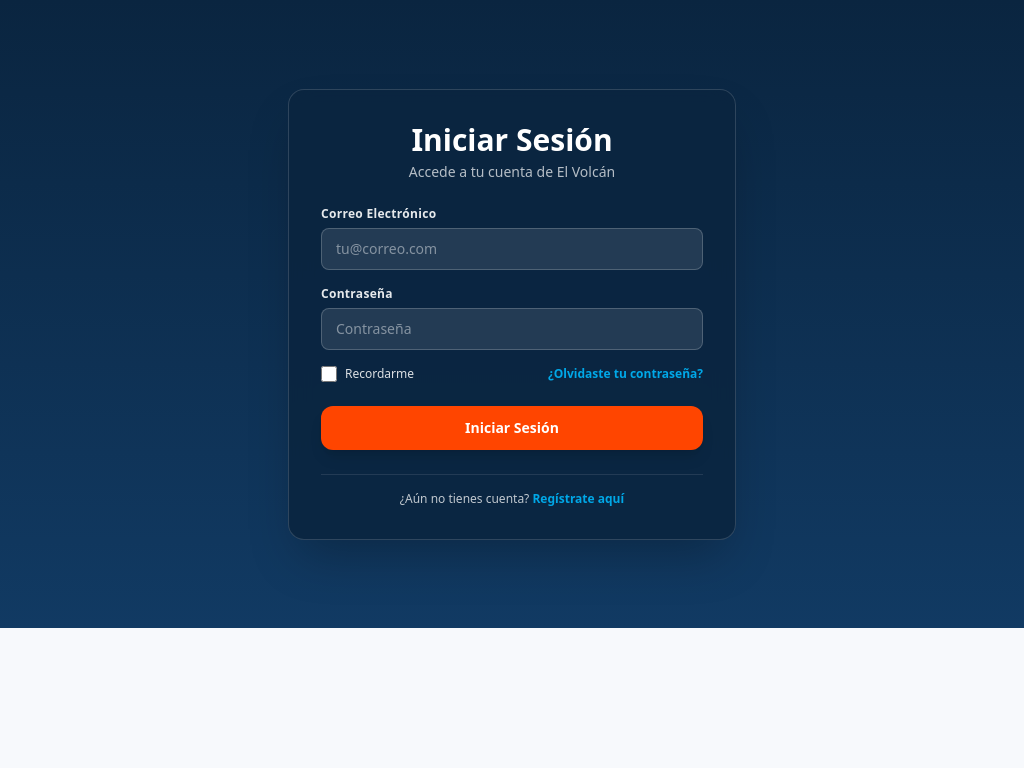
Test: Pruebas Unitarias - Comportamiento de Componentes y Manipulación del DOM › 15. IniciarSesion: Valida los campos y manipula el DOM mostrando alerta ante credenciales incorrectas del backend
Type "usuario_falso@correo.cl" into the field with placeholder "tu@correo.com" at (512, 248), box [321, 228, 703, 270]
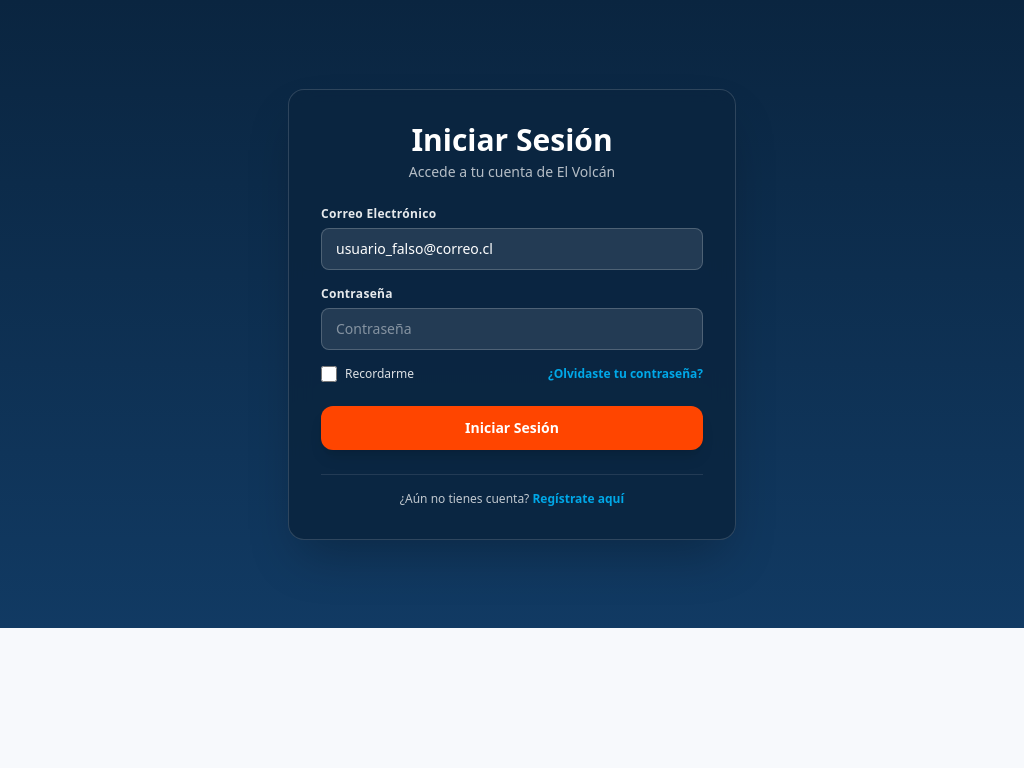
Type "clave_erronea_123" into the password field with placeholder "Contraseña" at (512, 328), box [321, 308, 703, 350]
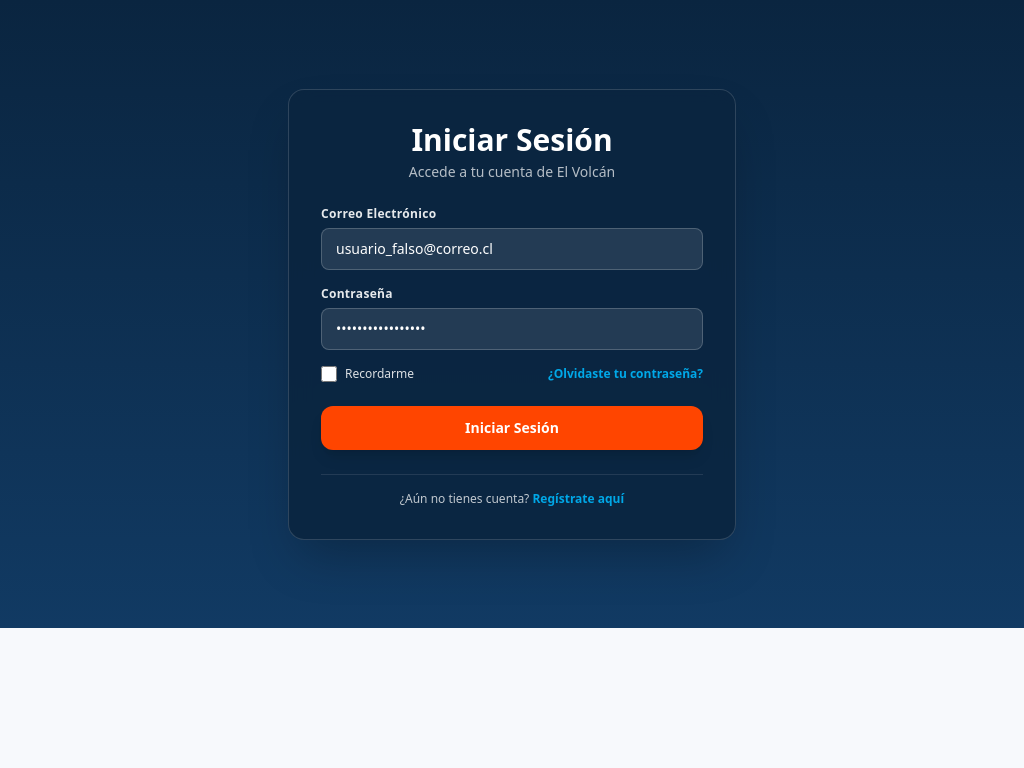
Click the button "Iniciar Sesión" at (512, 428), box [321, 406, 703, 450]
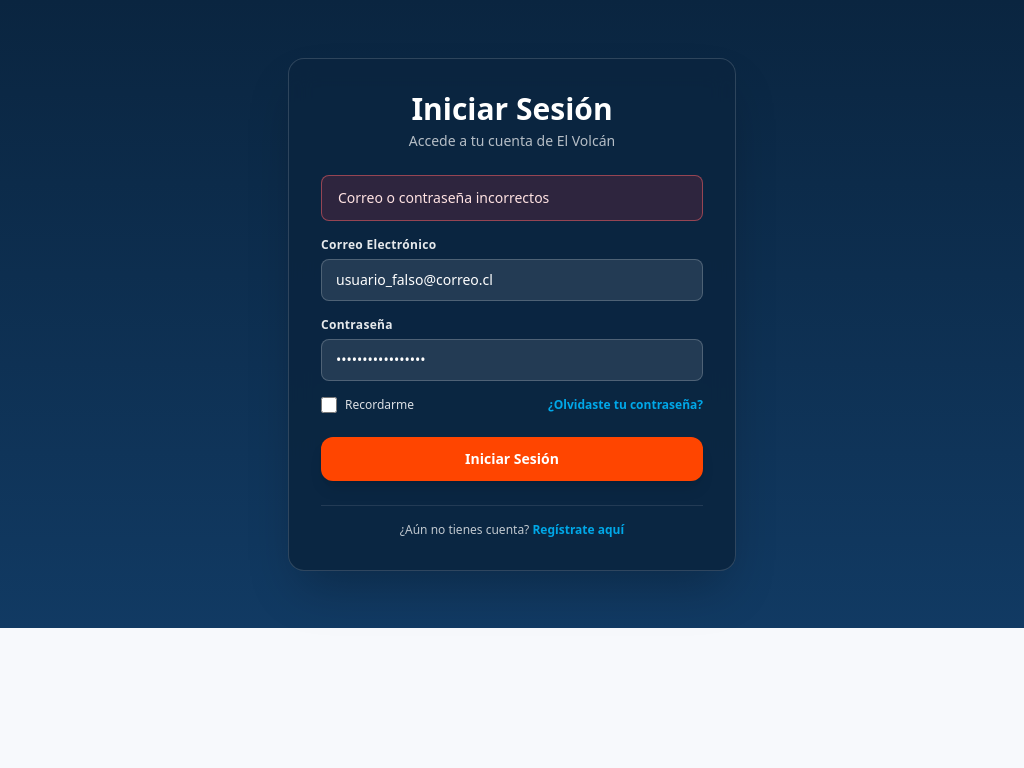
Check: the text "Correo o contraseña incorrectos" is shown, box [338, 188, 549, 208]
